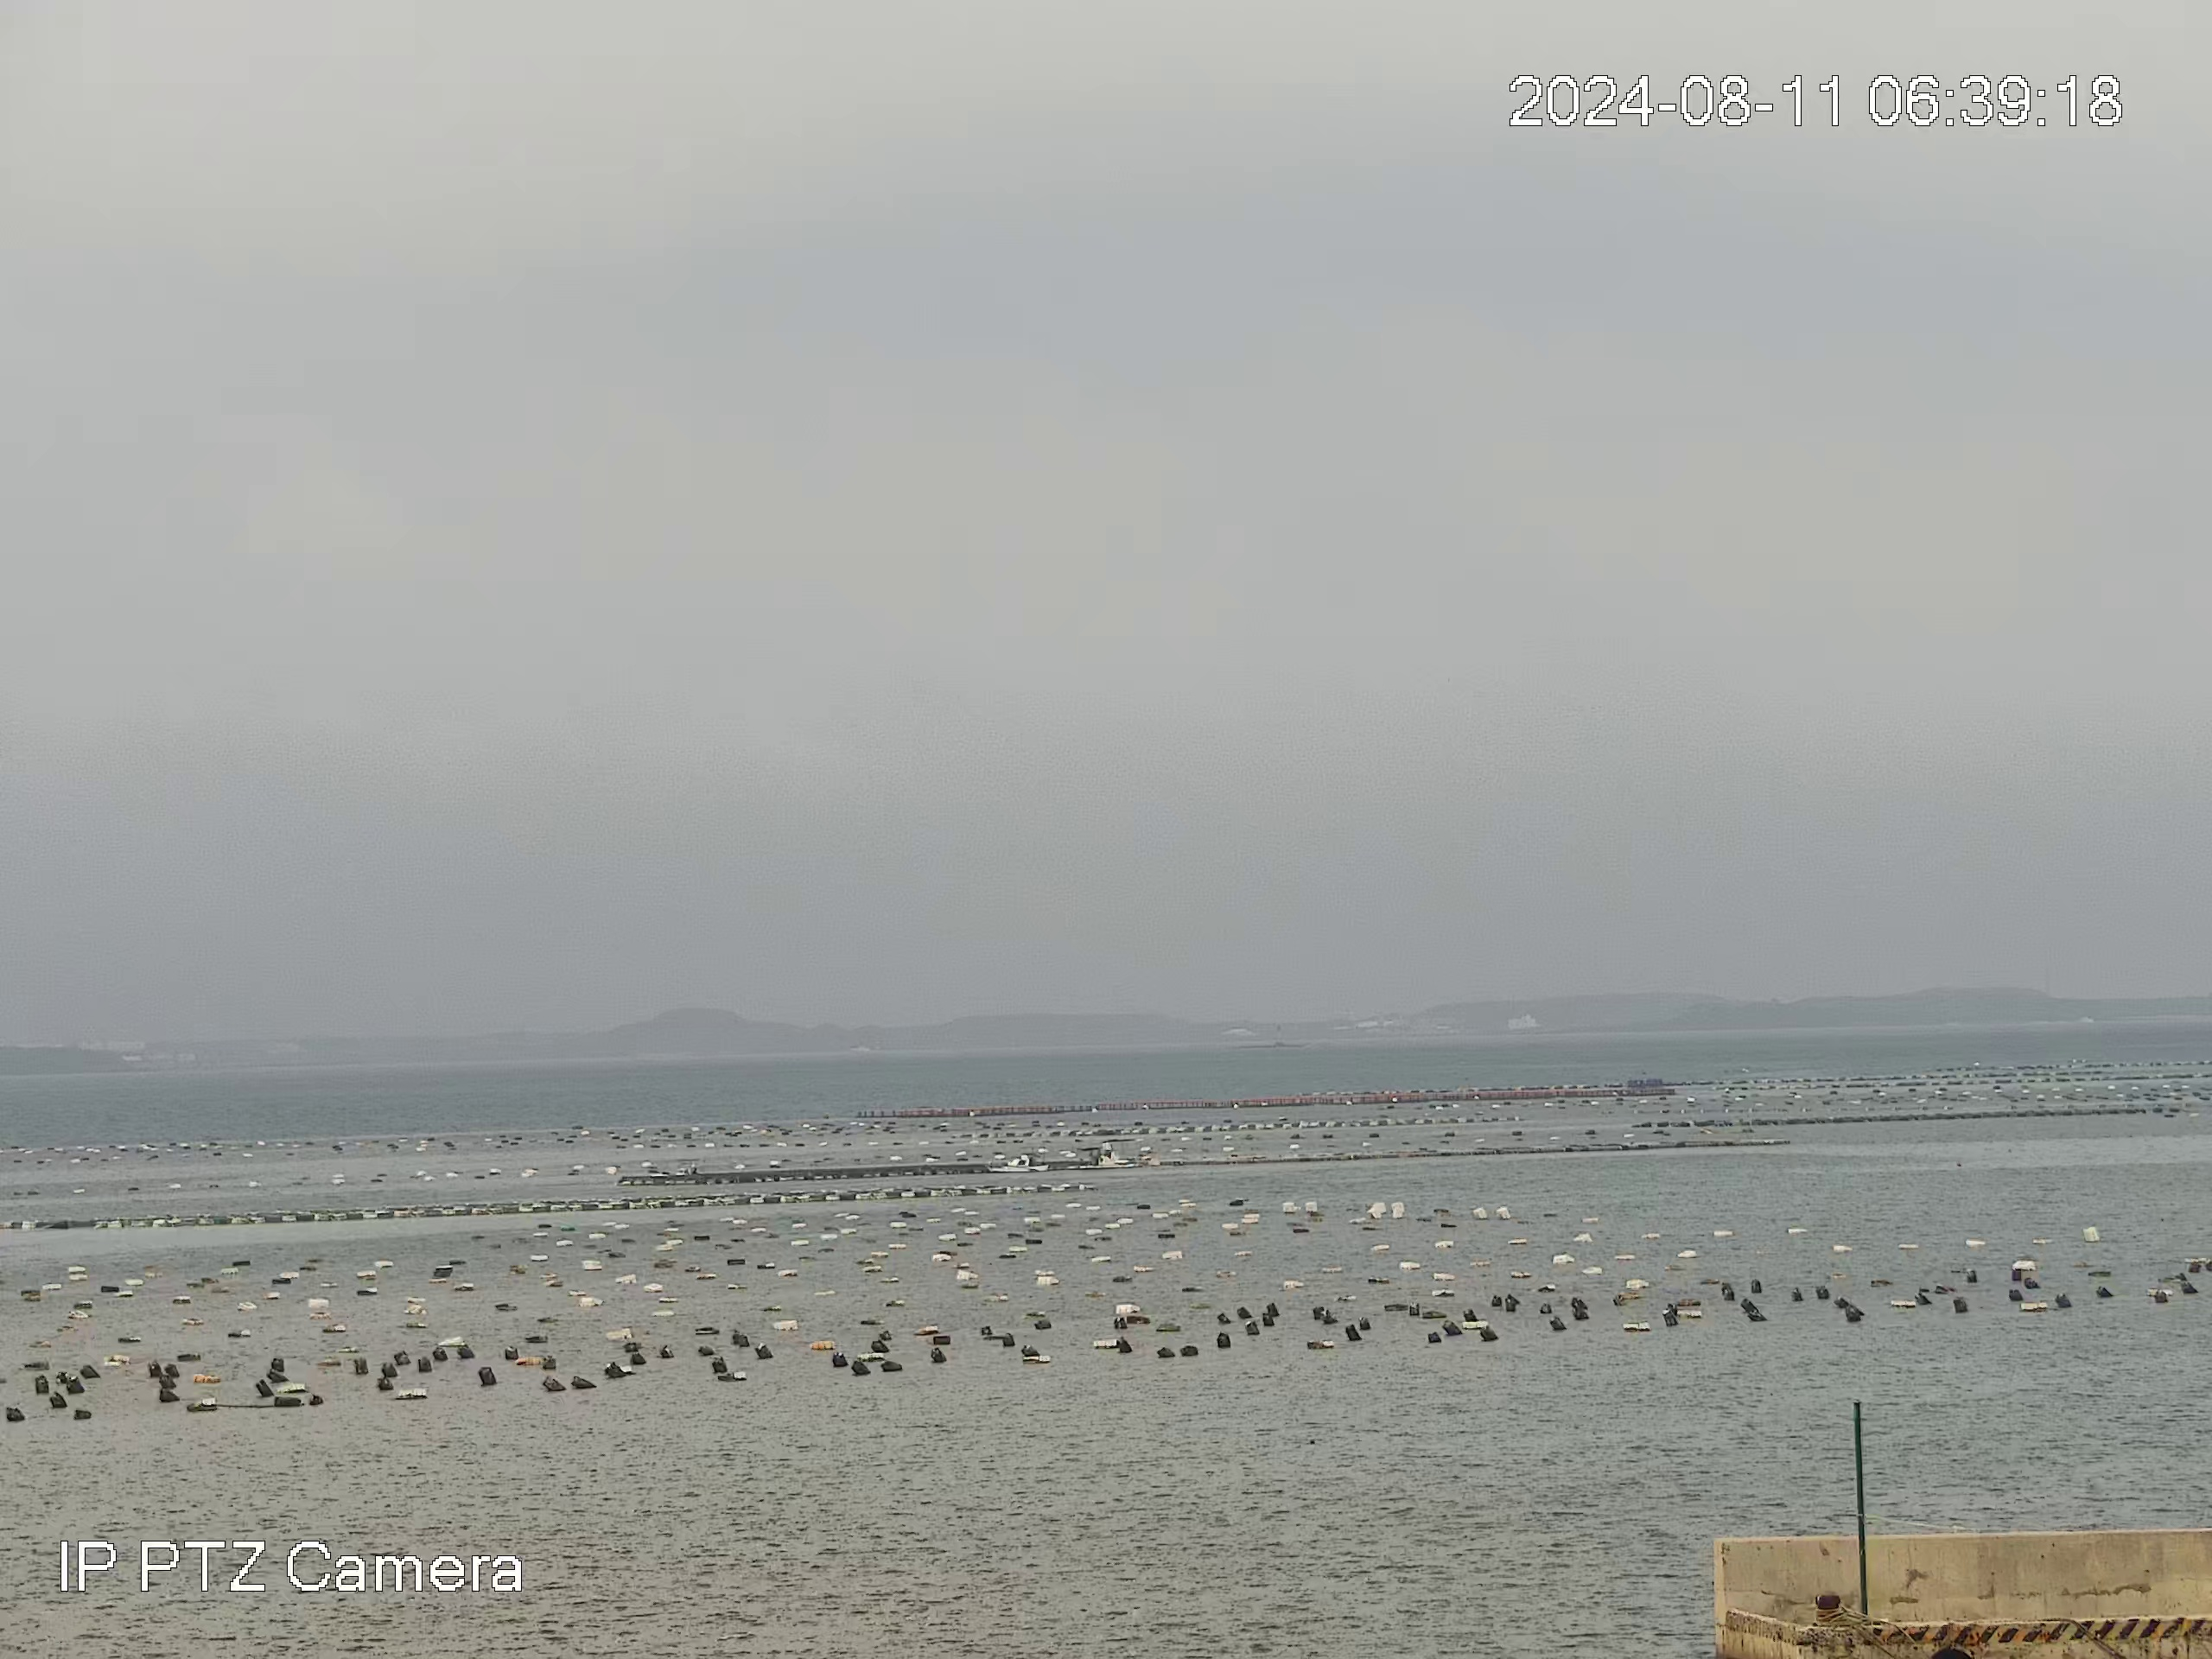boat: (1066, 1143, 1132, 1169), (984, 1154, 1052, 1175)
